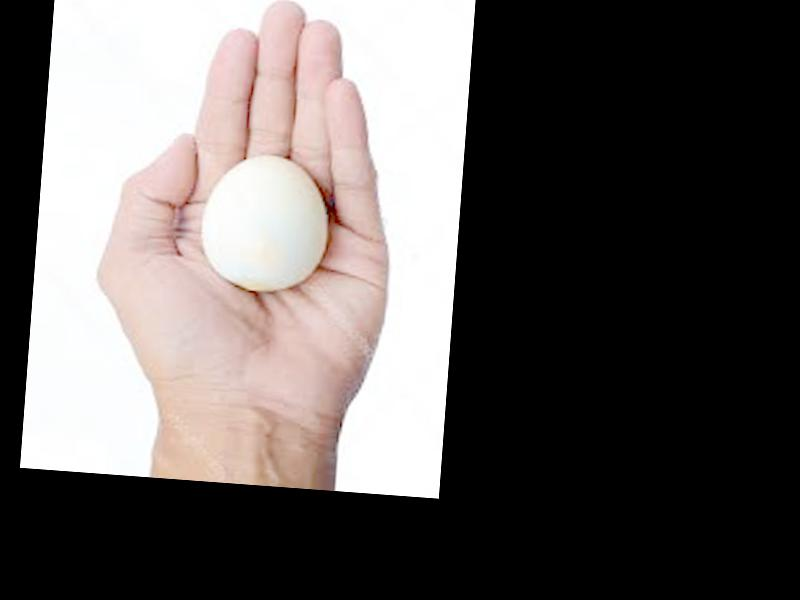Eggs: (200, 149, 330, 294)
